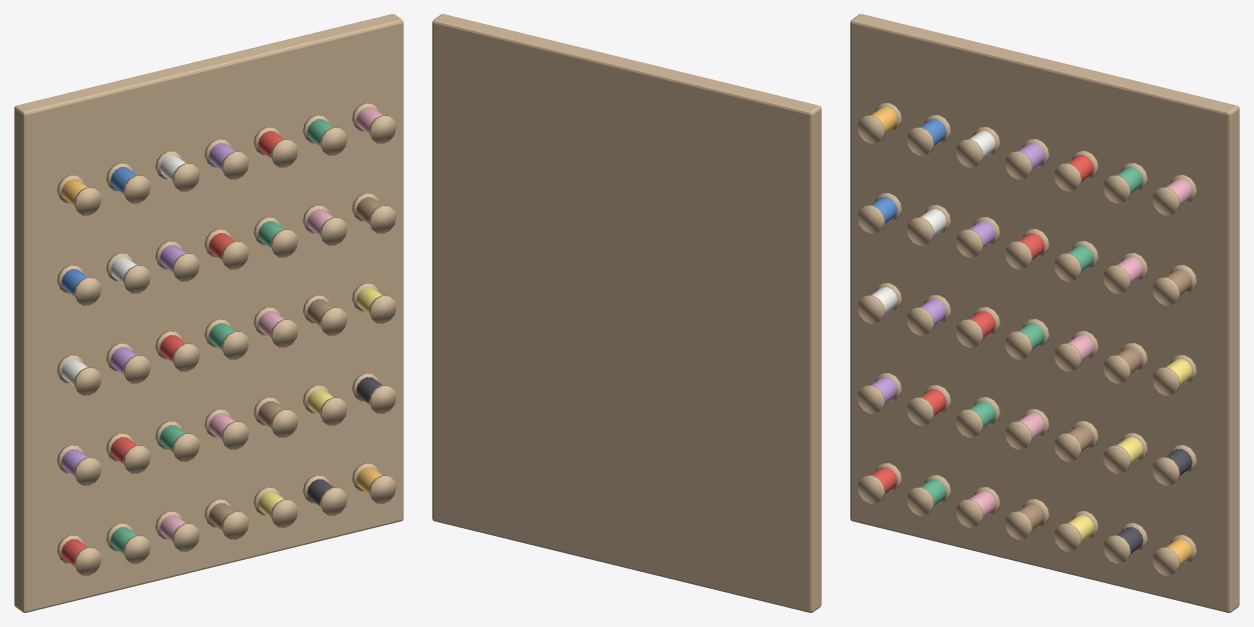
File: v2_thread_rack.fbx
The picture shows the model from 3 angles, left to right: view 1: azimuth 30°, elevation 25°; view 2: azimuth 150°, elevation 25°; view 3: azimuth 330°, elevation 25°; orthographic projection.
Parts seen in each view (by area): view 1: Board, SpoolEnd.004, SpoolEnd.022, SpoolEnd.050, SpoolEnd.064, SpoolEnd, SpoolEnd.006, SpoolEnd.008, SpoolEnd.018, SpoolEnd.036, SpoolEnd.042, SpoolEnd.048 (+24 smaller); view 2: Board; view 3: Board, SpoolEnd.008, SpoolEnd.018, SpoolEnd.046, SpoolEnd.060, SpoolEnd.004, SpoolEnd.006, SpoolEnd.012, SpoolEnd.022, SpoolEnd.032, SpoolEnd.048, SpoolEnd.054 (+24 smaller).
Boxes of the visible parts, x1,y1,x2,y2 form: Board: (14, 14, 403, 612); SpoolEnd.004: (172, 523, 199, 551); SpoolEnd.022: (270, 409, 298, 437); SpoolEnd.050: (270, 229, 298, 257); SpoolEnd.064: (270, 139, 298, 167); SpoolEnd: (74, 547, 101, 575); SpoolEnd.006: (221, 511, 248, 539); SpoolEnd.008: (270, 499, 298, 527); SpoolEnd.018: (172, 433, 199, 461); SpoolEnd.036: (270, 319, 298, 347); SpoolEnd.042: (74, 277, 101, 305); SpoolEnd.048: (221, 241, 248, 269); Board: (432, 14, 821, 612); Board: (850, 14, 1239, 612); SpoolEnd.008: (1054, 523, 1081, 551); SpoolEnd.018: (955, 409, 983, 437); SpoolEnd.046: (955, 229, 983, 257); SpoolEnd.060: (955, 139, 983, 167); SpoolEnd.004: (955, 499, 983, 527); SpoolEnd.006: (1005, 511, 1032, 539); SpoolEnd.012: (1152, 547, 1179, 575); SpoolEnd.022: (1054, 433, 1081, 461); SpoolEnd.032: (955, 319, 983, 347); SpoolEnd.048: (1005, 241, 1032, 269); SpoolEnd.054: (1152, 277, 1179, 305).
Size of the model in its own units: 0.62 by 0.78 by 0.092.
